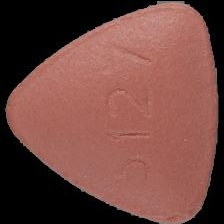63629-2923: (0, 0, 224, 224)
